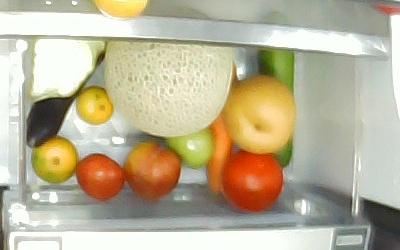cabbage: (28, 37, 105, 104)
carrot: (205, 110, 232, 195)
eggplant: (25, 41, 112, 149)
melon: (106, 40, 232, 134)
pear: (226, 75, 296, 155)
prune: (123, 142, 181, 201), (78, 152, 125, 201)
tangerine: (32, 136, 77, 182), (78, 87, 113, 125)
tomato: (222, 149, 282, 213), (164, 125, 214, 169)
zucchini: (257, 48, 294, 169)
